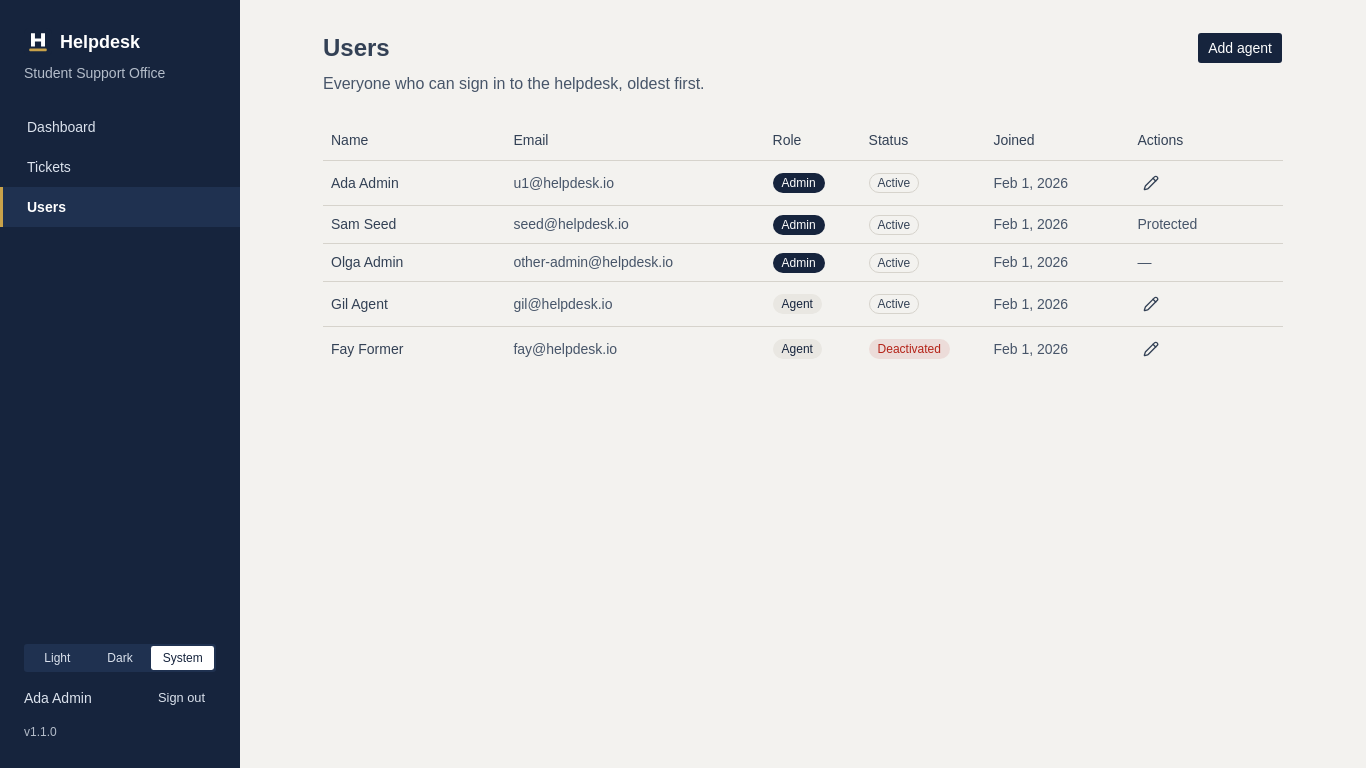
a new password is sent, and the admin is told it signed them out
Click the button named "Edit Gil Agent". click: (1151,304)
box: [1137,290,1165,318]
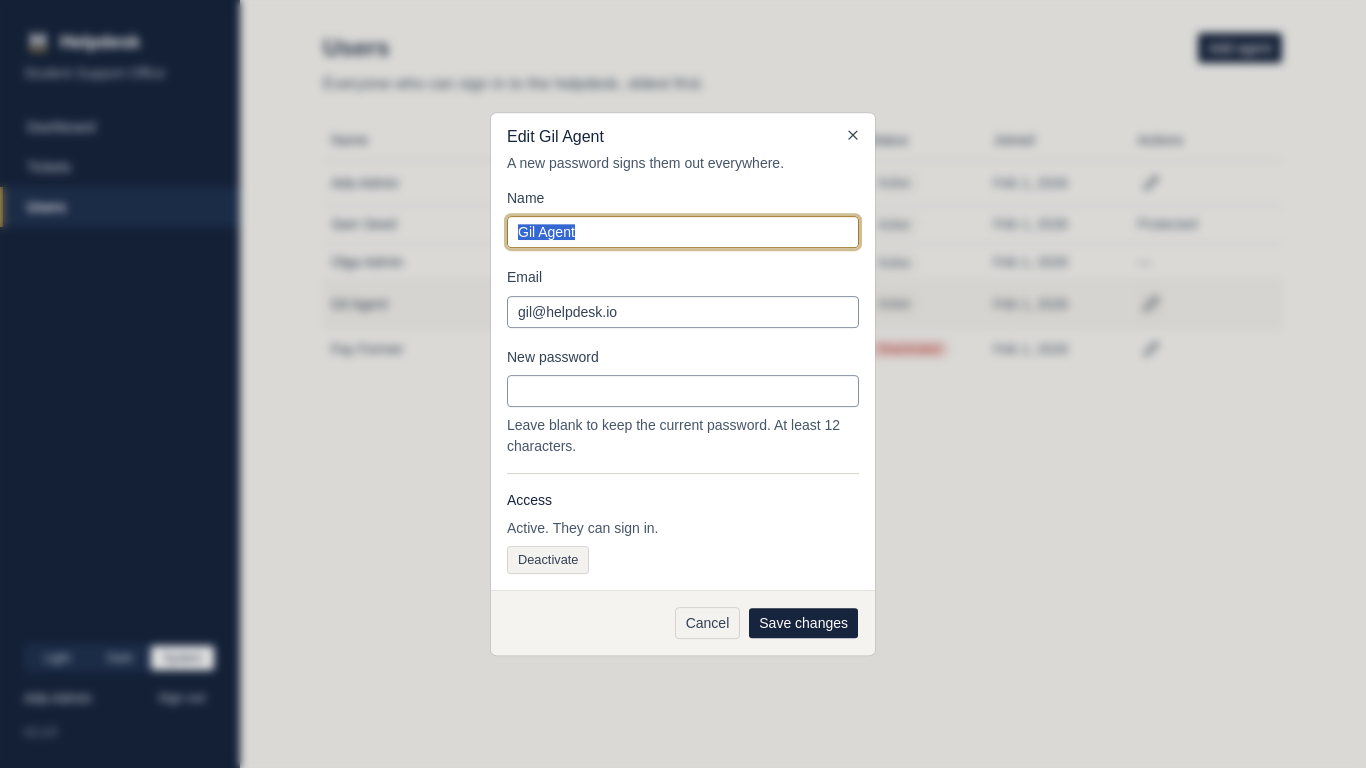
Type "a-brand-new-password" into the password field labelled "New password". click: (683,391)
box: [507,375,859,407]
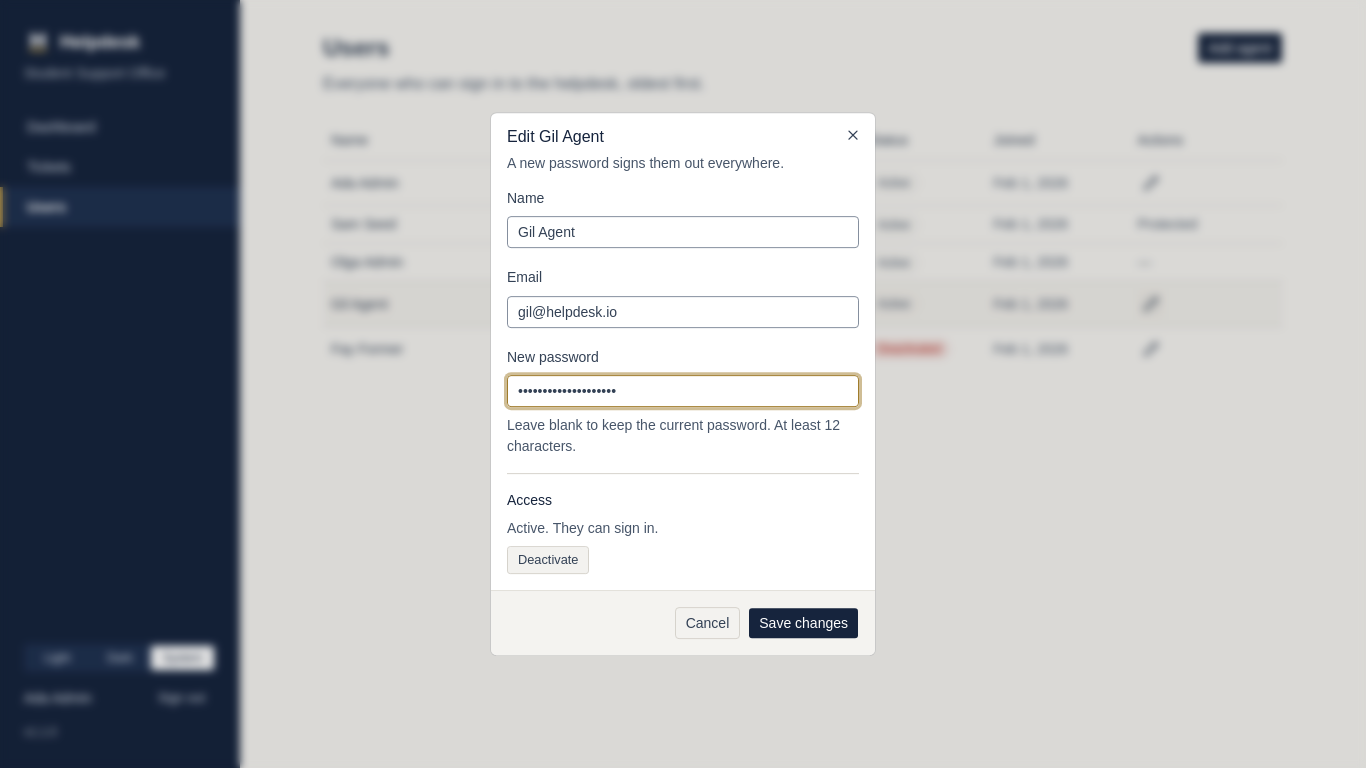
Click the button "Save changes". click: (804,623)
box: [748,607,859,639]
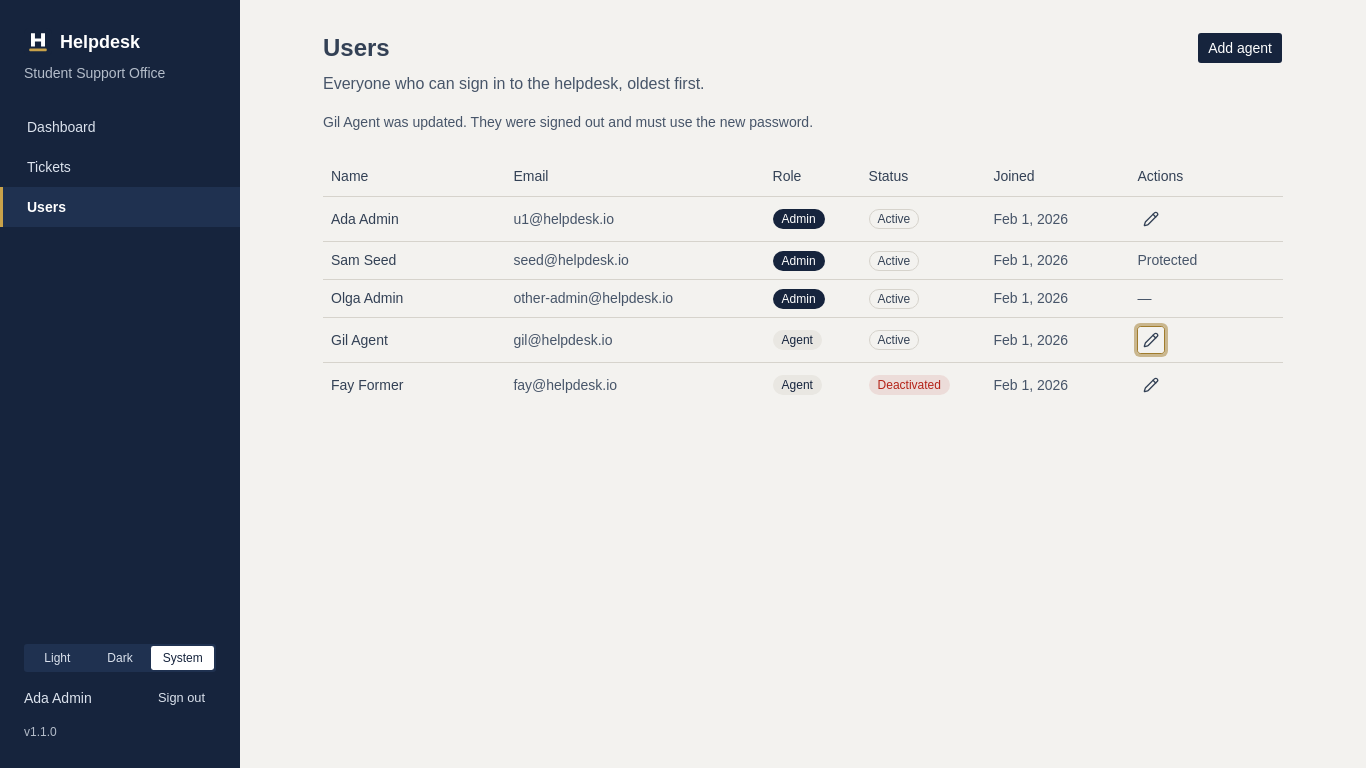
Expected: the text "Gil Agent was updated. They were signed out and must use the new password." is shown, [323,114,813,130]
